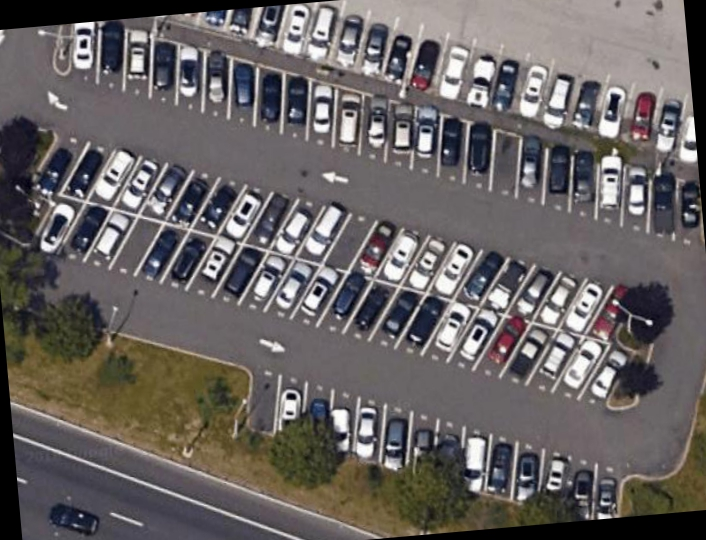parkingspot: (22, 129, 658, 414), (67, 20, 706, 252), (150, 0, 698, 167), (244, 362, 626, 521)
